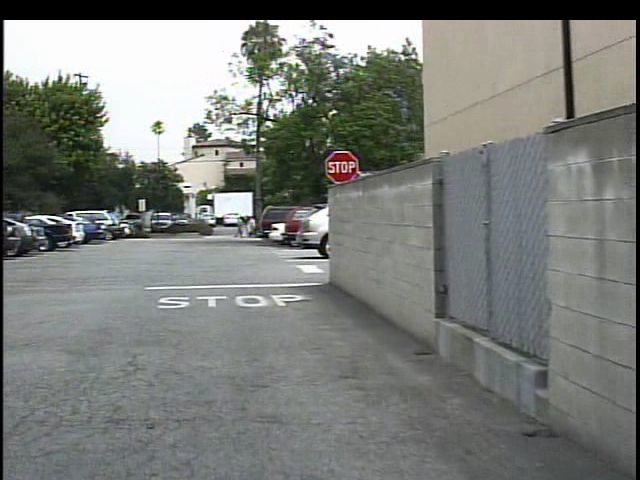person: (227, 215, 241, 241), (239, 215, 252, 240)
